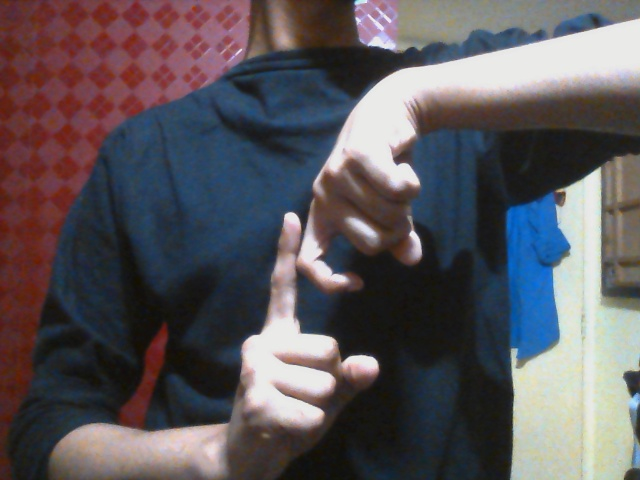K: (238, 152, 414, 457)
